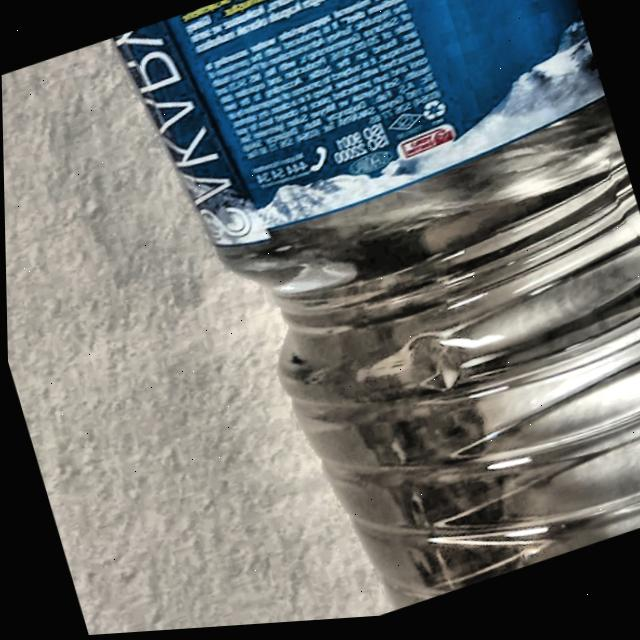plastic: (116, 0, 640, 616)
